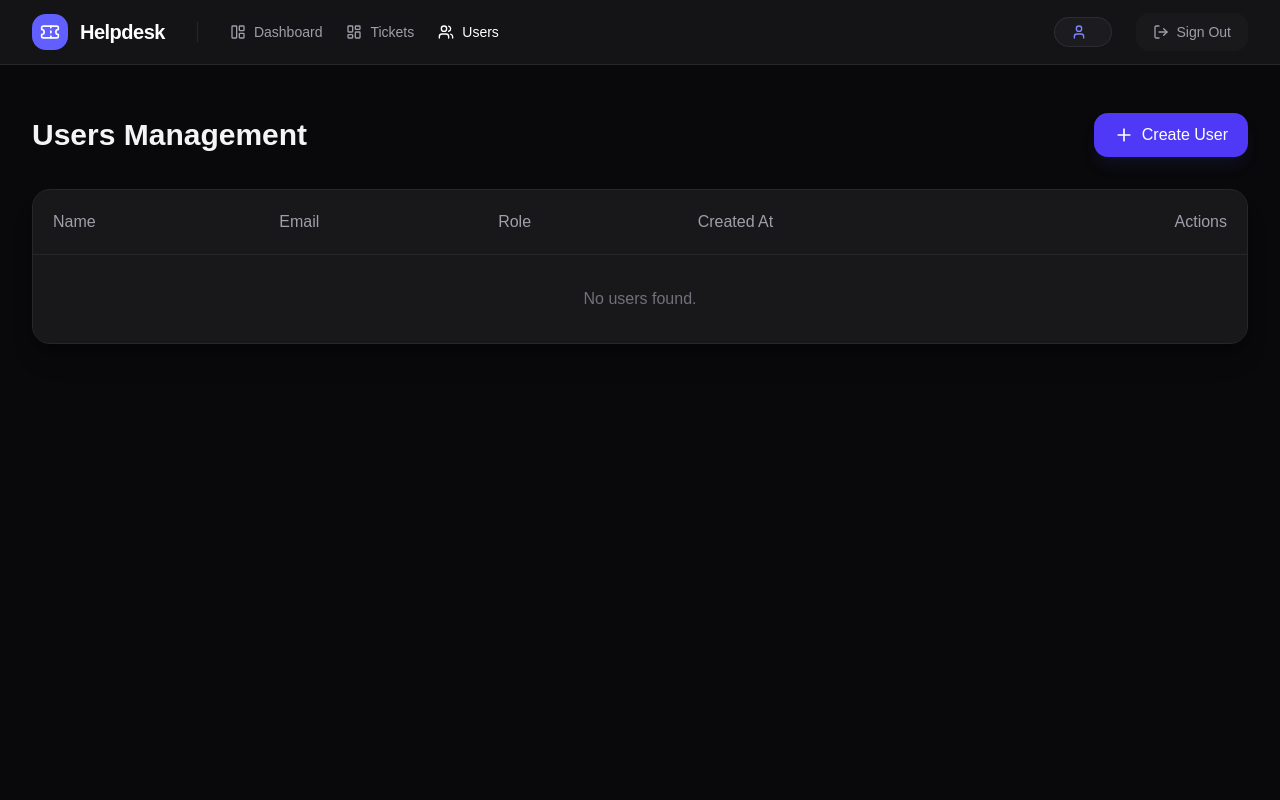
Users Component › opens modal on create user click, and closes on backdrop click and Escape key
Expected: the text "Users" is shown, [462,22,499,42]
# Open modal and close via backdrop
Click the button with test id "create-user-btn".
click(1171, 135)  # box [1094,113,1248,157]
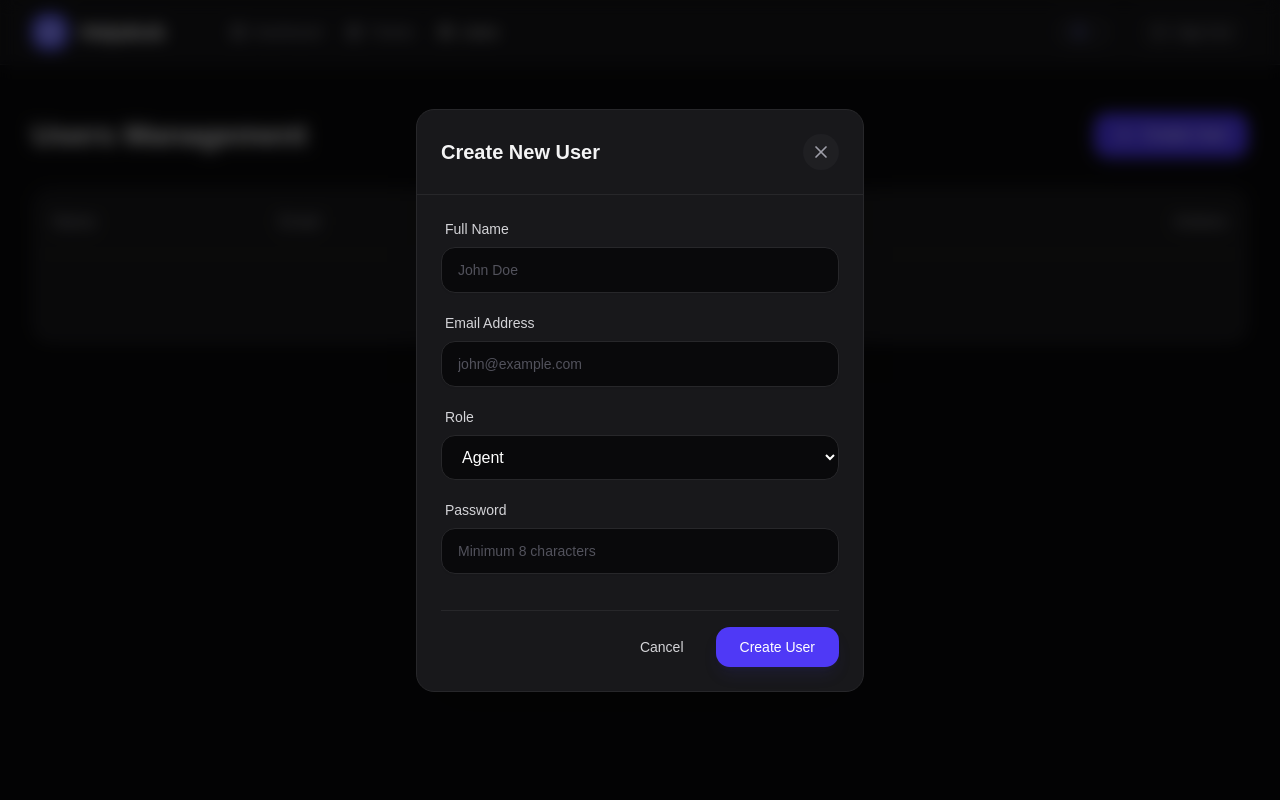
Expected: the heading "Create New User" is shown, [441,138,600,166]
Click the element with test id "modal-backdrop".
click(77, 400)  # box [0,0,1279,799]
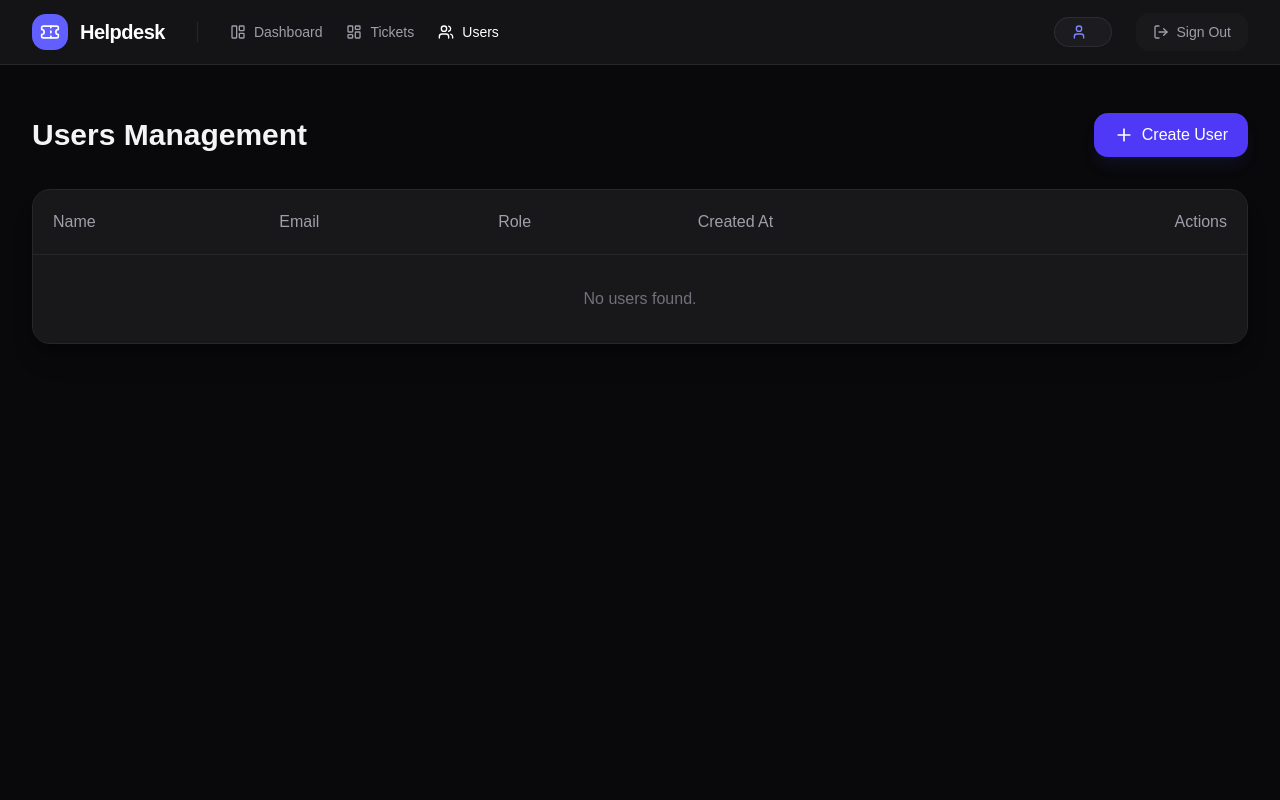
Expected: the heading "Create New User" is gone
# Open modal again and close via Escape
Click the button with test id "create-user-btn".
click(1171, 135)  # box [1094,113,1248,157]
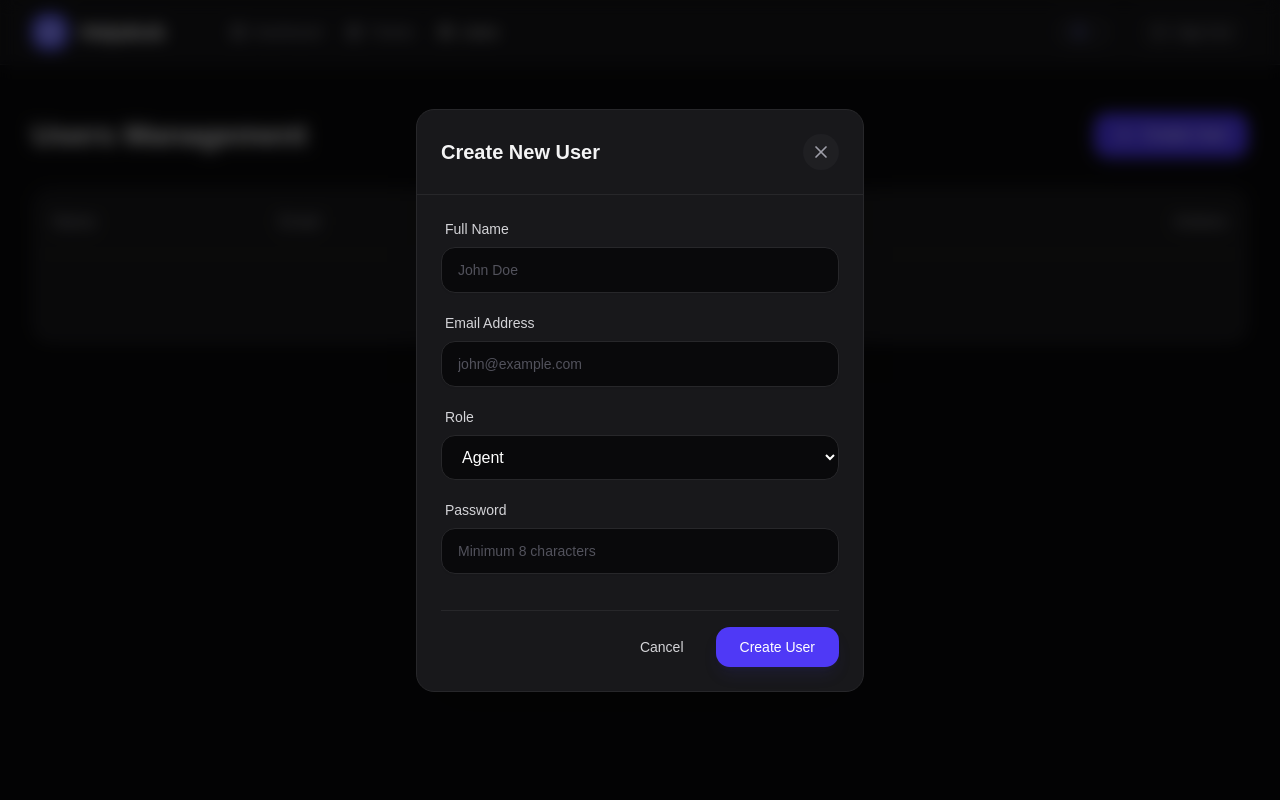
Expected: the heading "Create New User" is shown, [441,138,600,166]
Press Escape
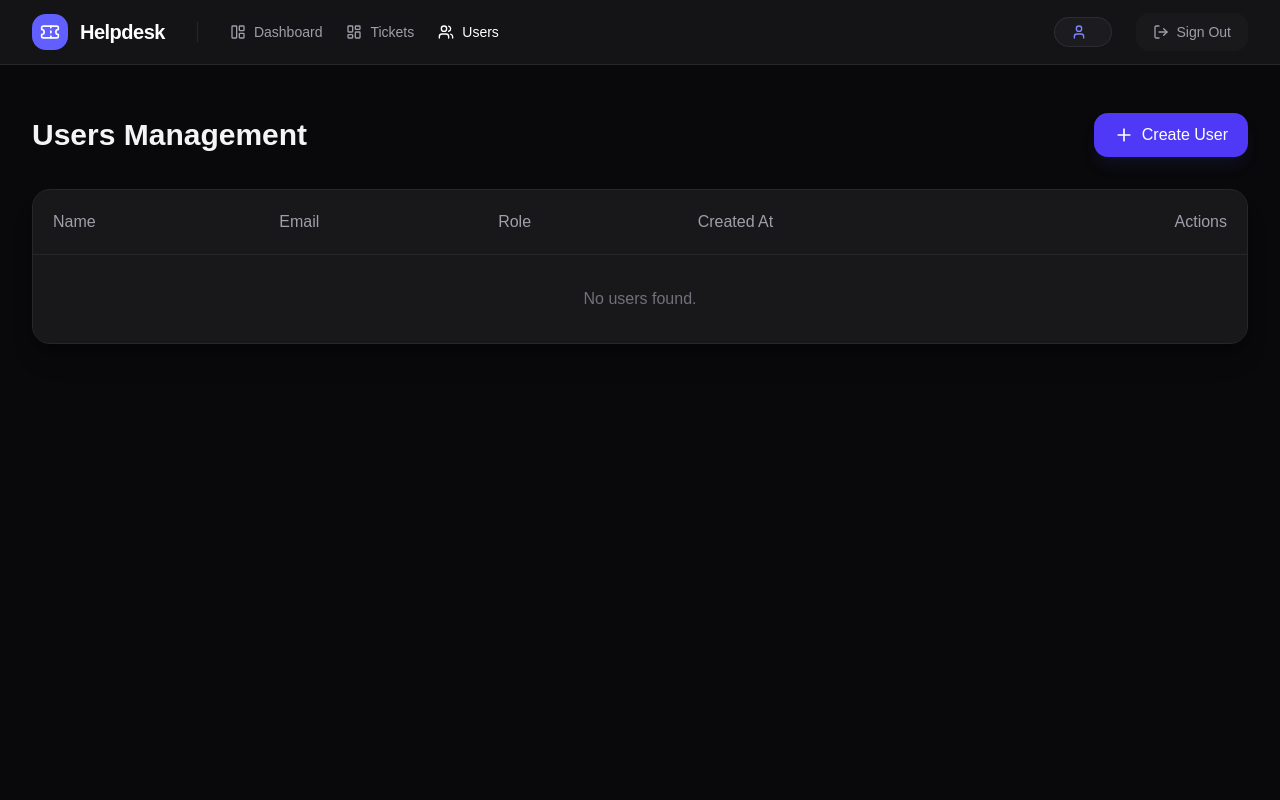
Expected: the heading "Create New User" is gone
